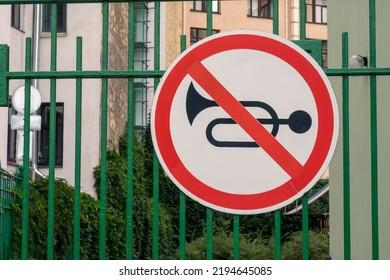Horn Prohibited: (126, 30, 352, 215)
